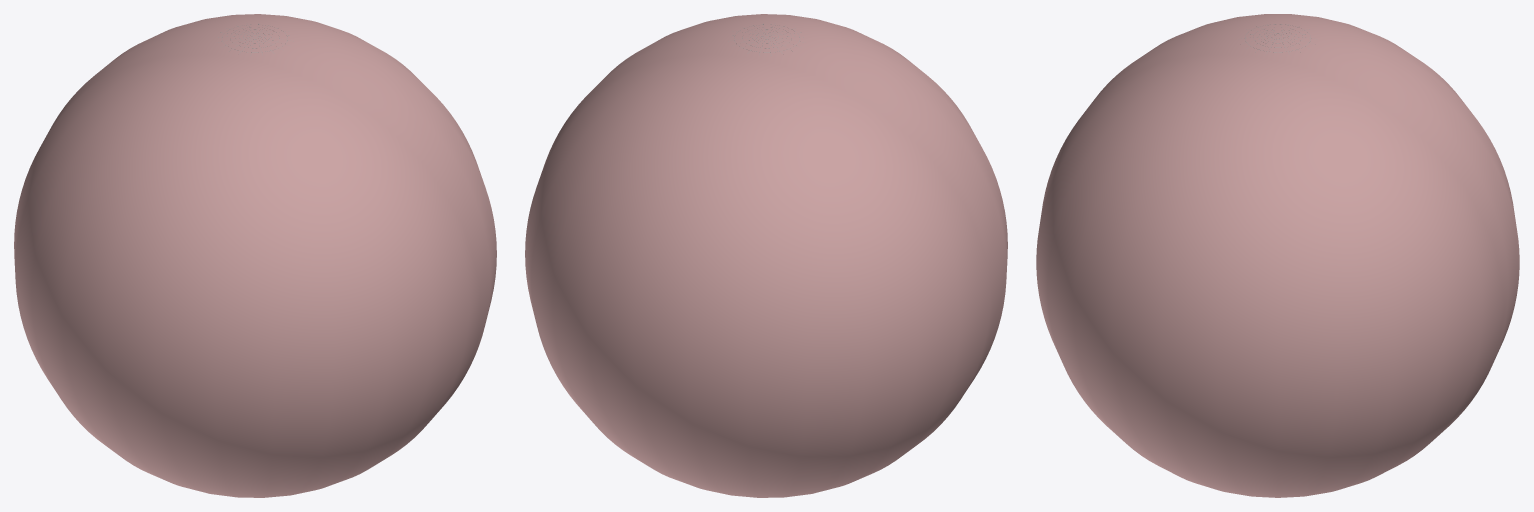
File: sports_center.fbx
3 views of the same model, side by side, from view 1: azimuth 30°, elevation 25°; view 2: azimuth 150°, elevation 25°; view 3: azimuth 270°, elevation 25° (orthographic).
Visible parts, largest first — view 1: pSphere2; view 2: pSphere2; view 3: pSphere2.
Boxes of the visible parts, box(x1,y1,x2,y2) form: pSphere2: box(14, 14, 496, 497); pSphere2: box(525, 14, 1007, 497); pSphere2: box(1036, 14, 1519, 497).
Size of the model in its own units: 48.15 by 48.35 by 48.25.
